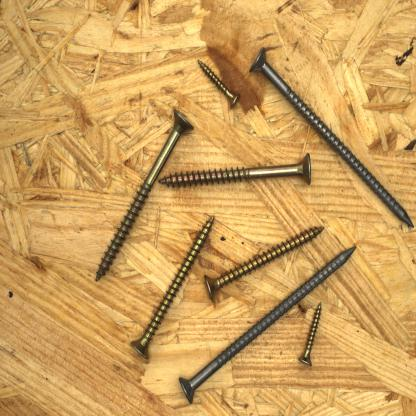screw: (246, 42, 416, 231), (176, 242, 360, 406), (92, 105, 197, 284), (128, 210, 218, 362), (202, 223, 327, 304), (157, 150, 314, 189), (196, 56, 242, 112), (296, 299, 324, 369)
